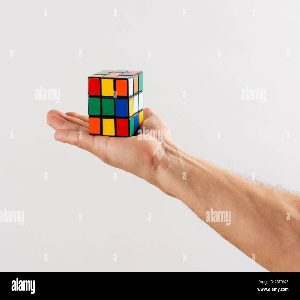cube: (87, 70, 144, 138)
